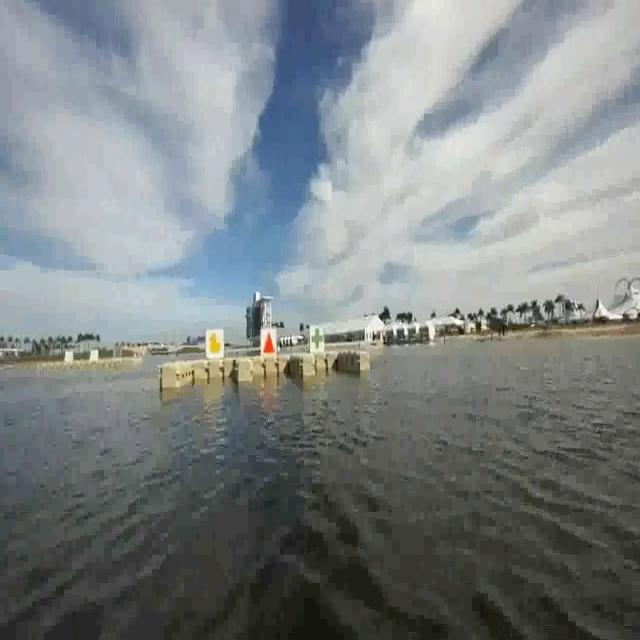blue-cross: (311, 329, 327, 358)
red-dot: (260, 328, 278, 356)
yellow-duck: (206, 329, 226, 362)
